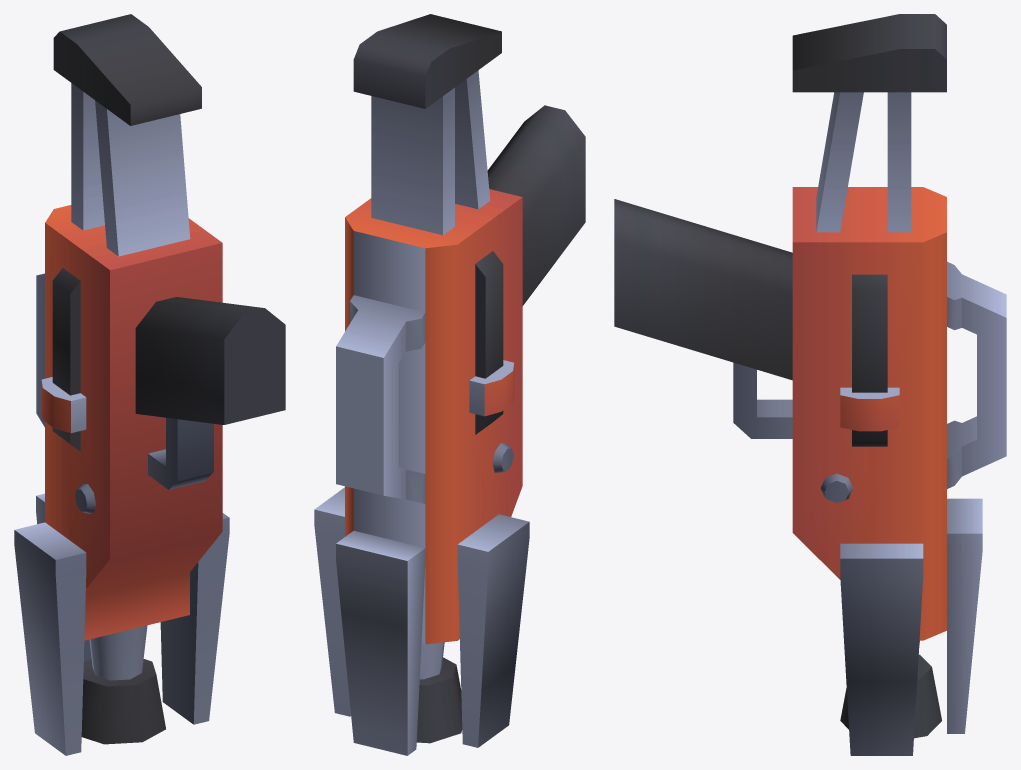
File: kb-blaster-n-lod1.glb
The picture shows the model from 3 angles, left to right: view 1: azimuth 30°, elevation 25°; view 2: azimuth 150°, elevation 25°; view 3: azimuth 270°, elevation 25°; orthographic projection.
Visible parts, largest first — view 1: WeaponMesh_kb-blaster-n_blaster-n; view 2: WeaponMesh_kb-blaster-n_blaster-n; view 3: WeaponMesh_kb-blaster-n_blaster-n.
Part boxes in pixels (bbox=[...]): WeaponMesh_kb-blaster-n_blaster-n: bbox=[14, 14, 285, 755]; WeaponMesh_kb-blaster-n_blaster-n: bbox=[314, 14, 585, 755]; WeaponMesh_kb-blaster-n_blaster-n: bbox=[614, 14, 1006, 755].
Size of the model in its own units: 0.3664 by 1.38 by 0.7115.
1 material, 1 textured.
